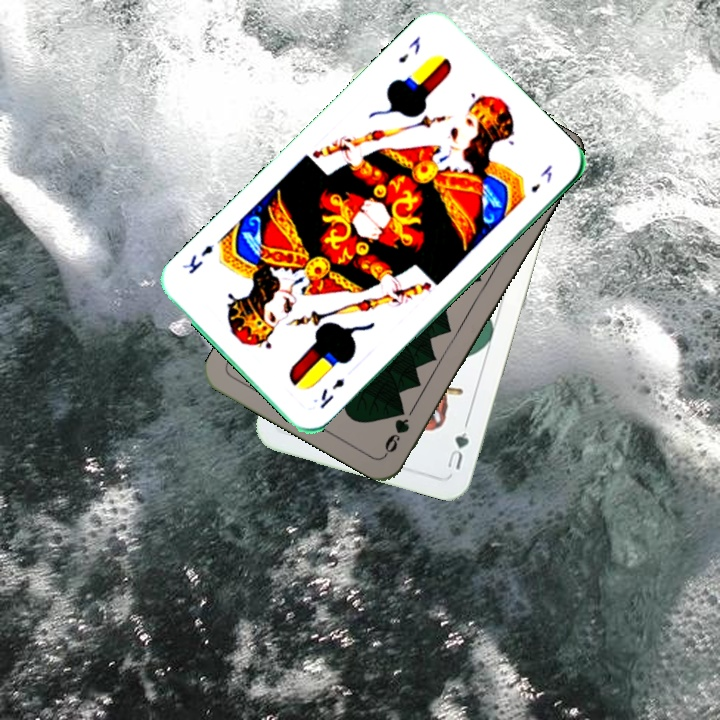EK: (316, 374, 347, 412), (394, 32, 423, 66)
G9: (380, 404, 417, 457)
GU: (443, 418, 472, 472)
